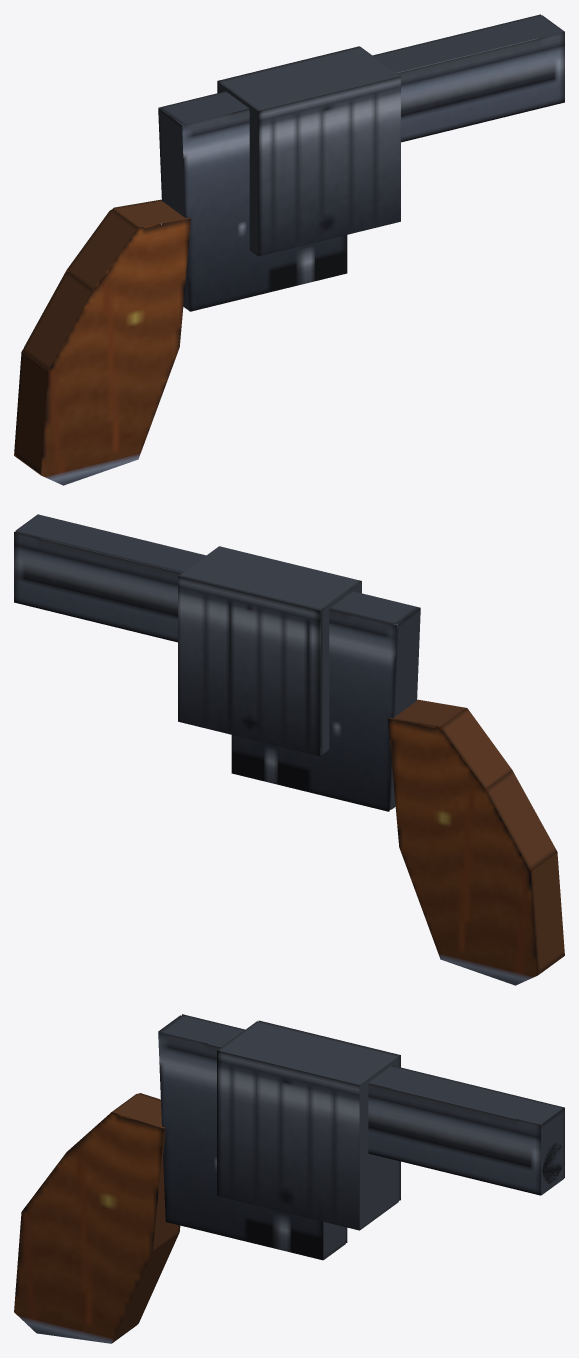
File: revolver_model.obj
3 views of the same model, one above another, from view 1: azimuth 30°, elevation 25°; view 2: azimuth 150°, elevation 25°; view 3: azimuth 330°, elevation 25° (orthographic).
Size of the model in its own units: 14 by 8.5 by 1.9.
Materials: 1 (1 with a texture image).
